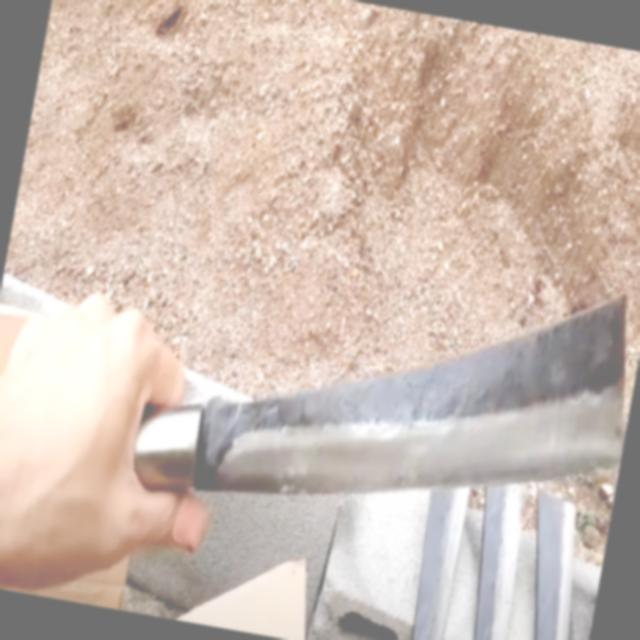eto: (0, 291, 625, 494)
